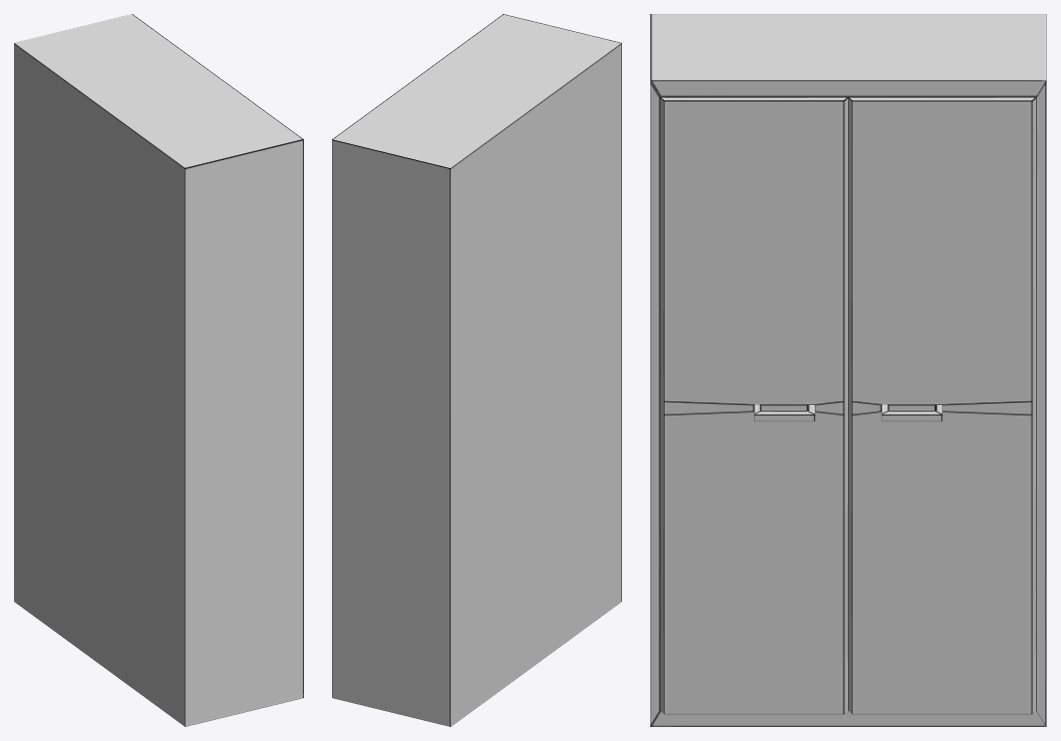
Rendered from Cupboard.obj.
3 renders of one model, left to right at view 1: azimuth 30°, elevation 25°; view 2: azimuth 150°, elevation 25°; view 3: azimuth 270°, elevation 25°, orthographic. The views are drawn at different scales.
Visible parts, largest first — view 1: Cube; view 2: Cube; view 3: Cube.
Boxes of the visible parts, bbox=[...] form: Cube: bbox=[14, 14, 303, 726]; Cube: bbox=[332, 14, 621, 726]; Cube: bbox=[650, 14, 1046, 726].
Size of the model in its own units: 0.48 by 1.8 by 1.
1 material, 1 textured.
